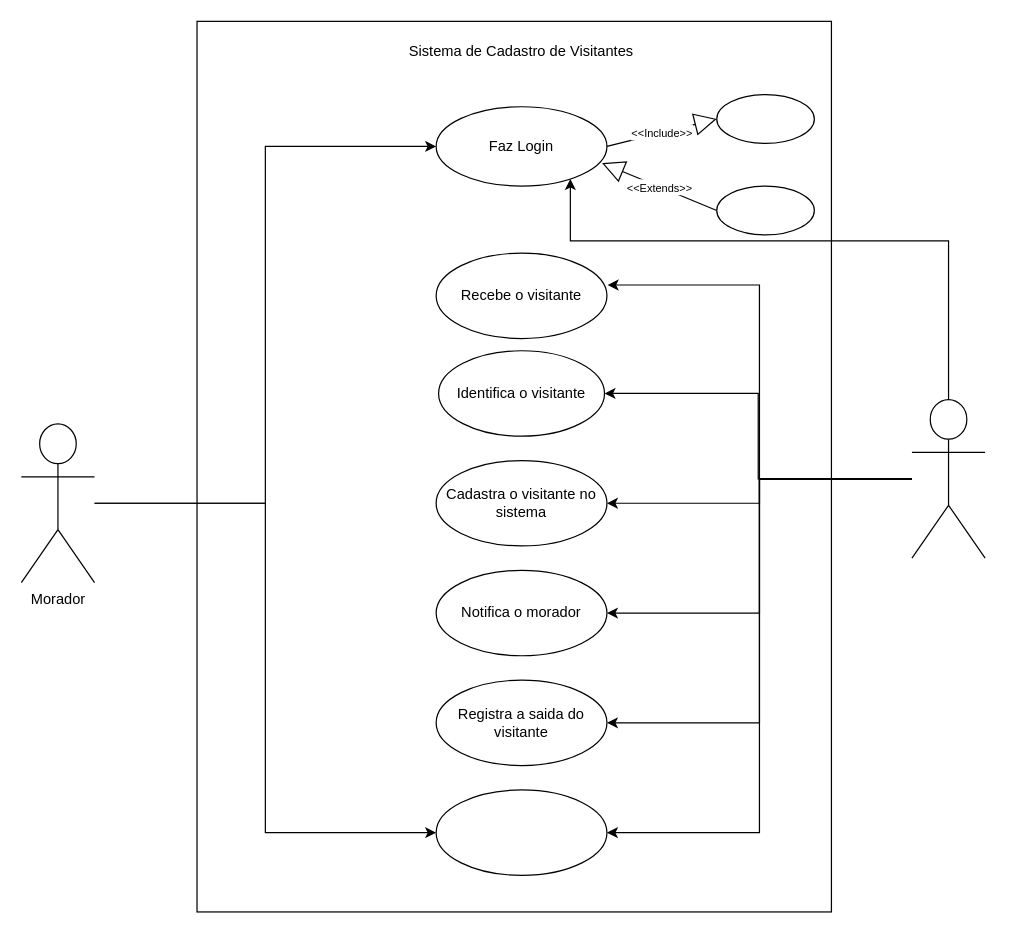
Some shapes in this 1015 by 933 pixel diagram are drawn without their labels. The centre of each missing label's shape, as x and y in pixels:
Administrador: (948,478)
Consulta o registro de visitantes: (521,832)
Exibe erro de login: (765,210)
Verificar senha: (765,118)
